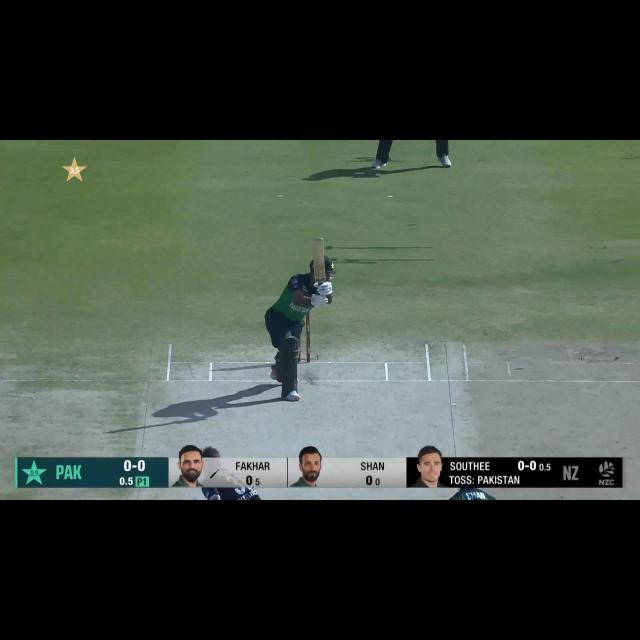bat: (311, 238, 326, 283)
toe: (312, 238, 325, 244)
